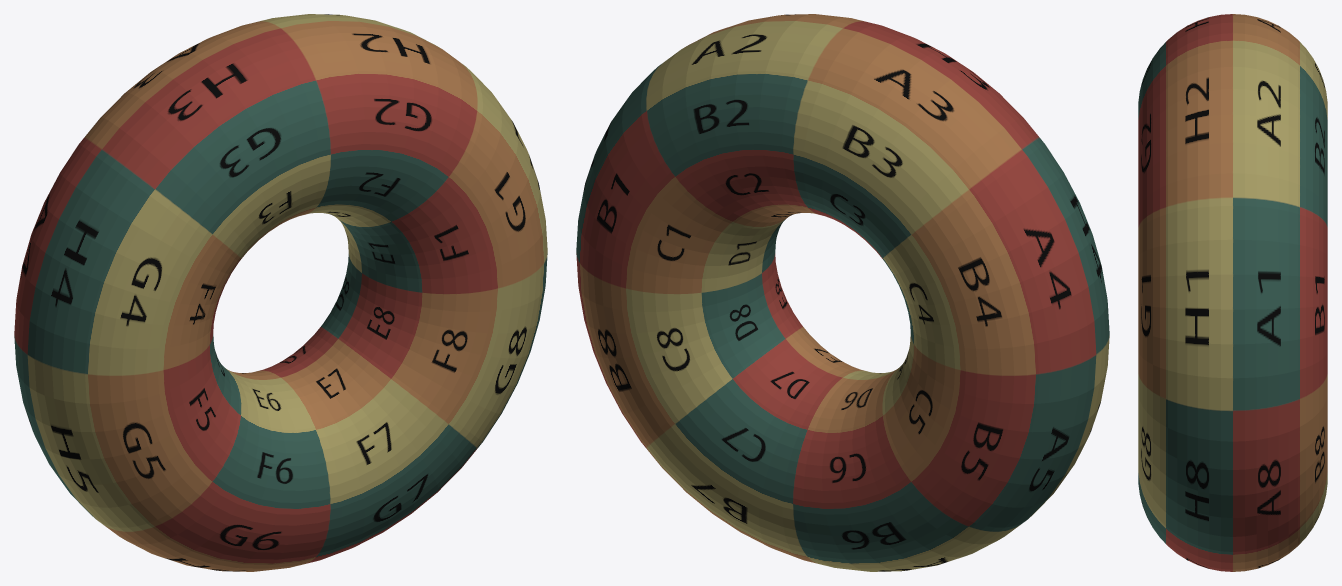
File: texture_torus_R11_r26.glb
The picture shows the model from 3 angles, left to right: view 1: azimuth 30°, elevation 25°; view 2: azimuth 150°, elevation 25°; view 3: azimuth 270°, elevation 25°; orthographic projection. The views are drawn at different scales.
Visible parts, largest first — view 1: world; view 2: world; view 3: world.
Part boxes in pixels (left/top/right/bottom): world: left=14, top=14, right=547, bottom=571; world: left=576, top=14, right=1109, bottom=571; world: left=1138, top=14, right=1327, bottom=571.
Bounding box in the file's own units: 26.27 × 26.21 × 8.92.
Materials: 1 (1 with a texture image).
